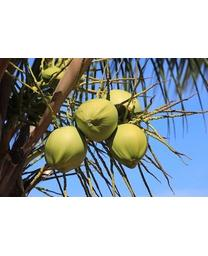coconut: (42, 122, 87, 171), (73, 98, 119, 142), (108, 123, 151, 165), (103, 89, 140, 123)
